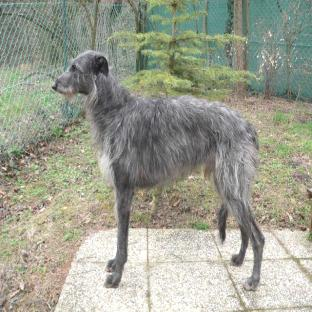Animal: (52, 51, 264, 290)
